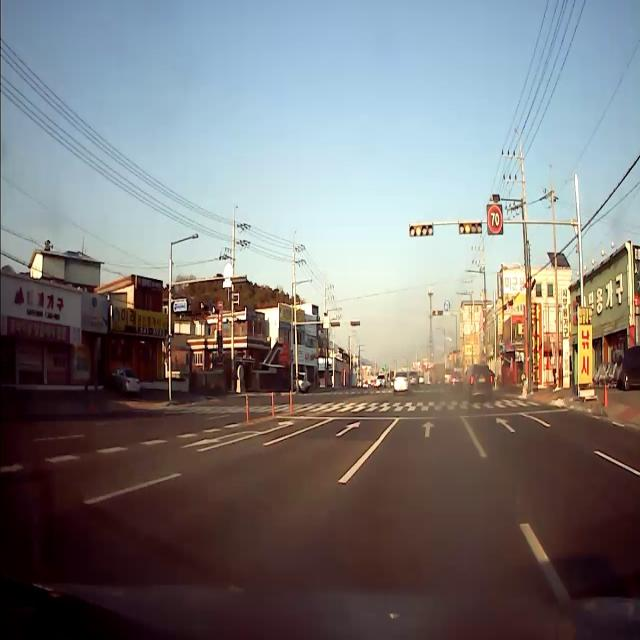Yellow Light: (414, 223, 422, 238), (464, 222, 471, 234), (435, 310, 438, 316)
